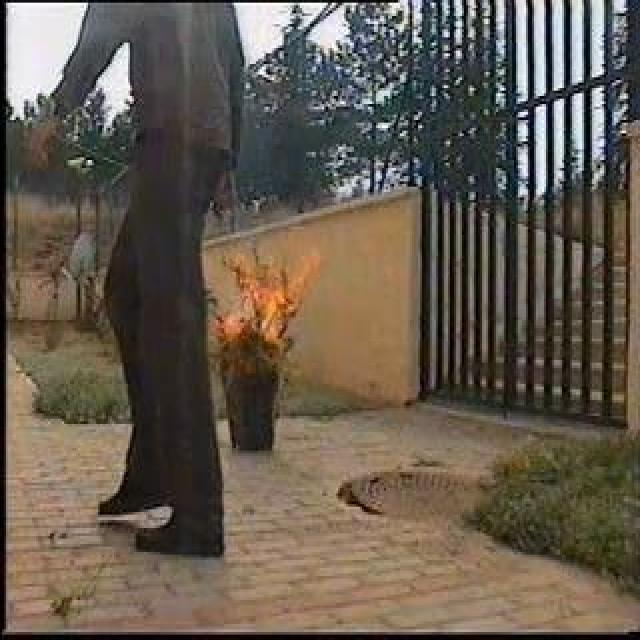fire: (212, 254, 315, 344)
